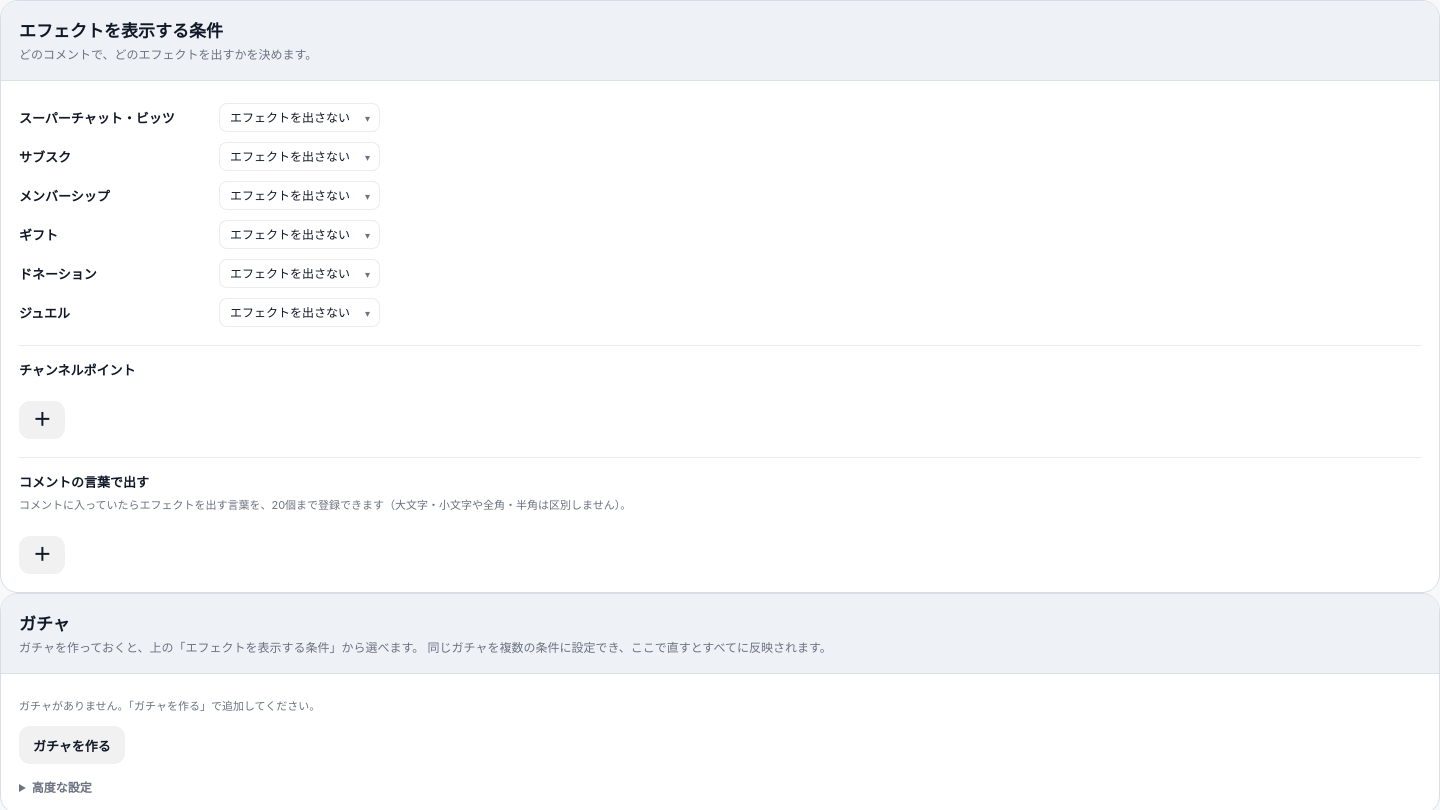
Scenario: GachaLibraryCard（063d） › ⚠⚠⚠ 穴 R: 使用中のガチャを消すとき、使っている条件が列挙される
The width and height of the screenshot is (1440, 810).
Click the button "ガチャを作る": click(72, 745) [19,726,125,764]
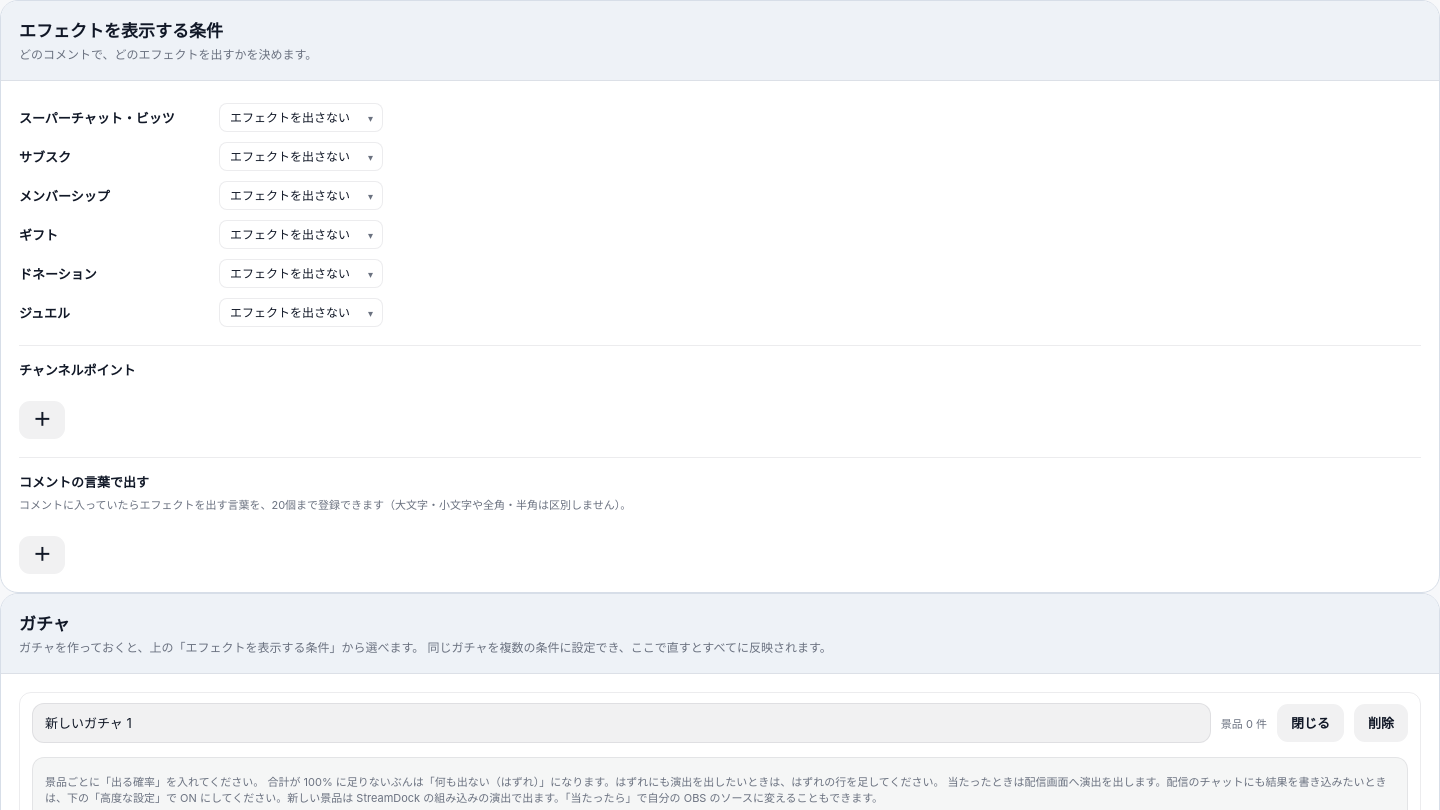
Select "ガチャ: 新しいガチャ 1" in the dropdown named "スーパーチャット・ビッツのエフェクト": (301, 118) [219,103,383,132]
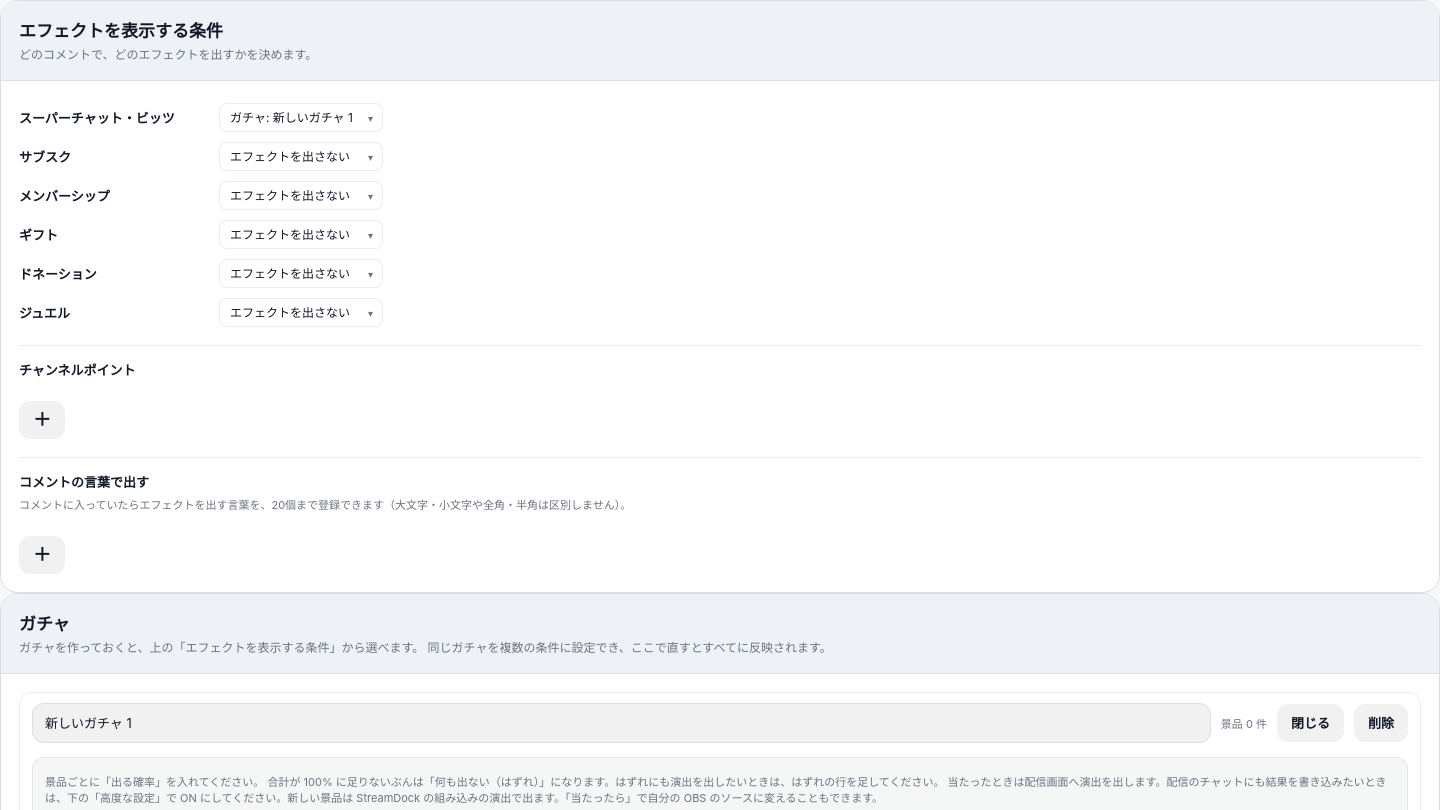
Select "ガチャ: 新しいガチャ 1" in the 2nd dropdown: (301, 156) [219,142,383,171]
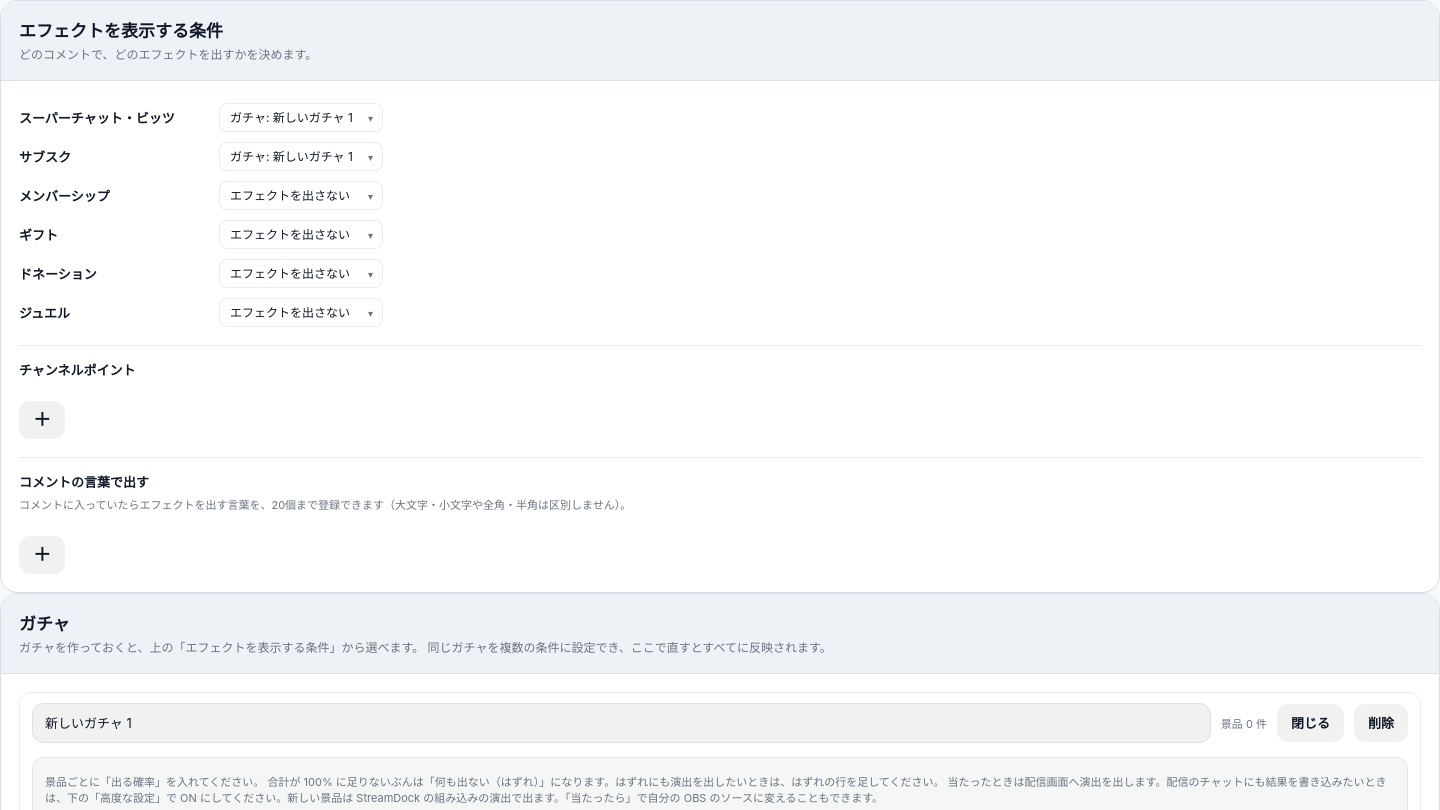
Click the button with aria-label "新しいガチャ 1 を削除": click(1381, 722) [1354,704,1408,742]
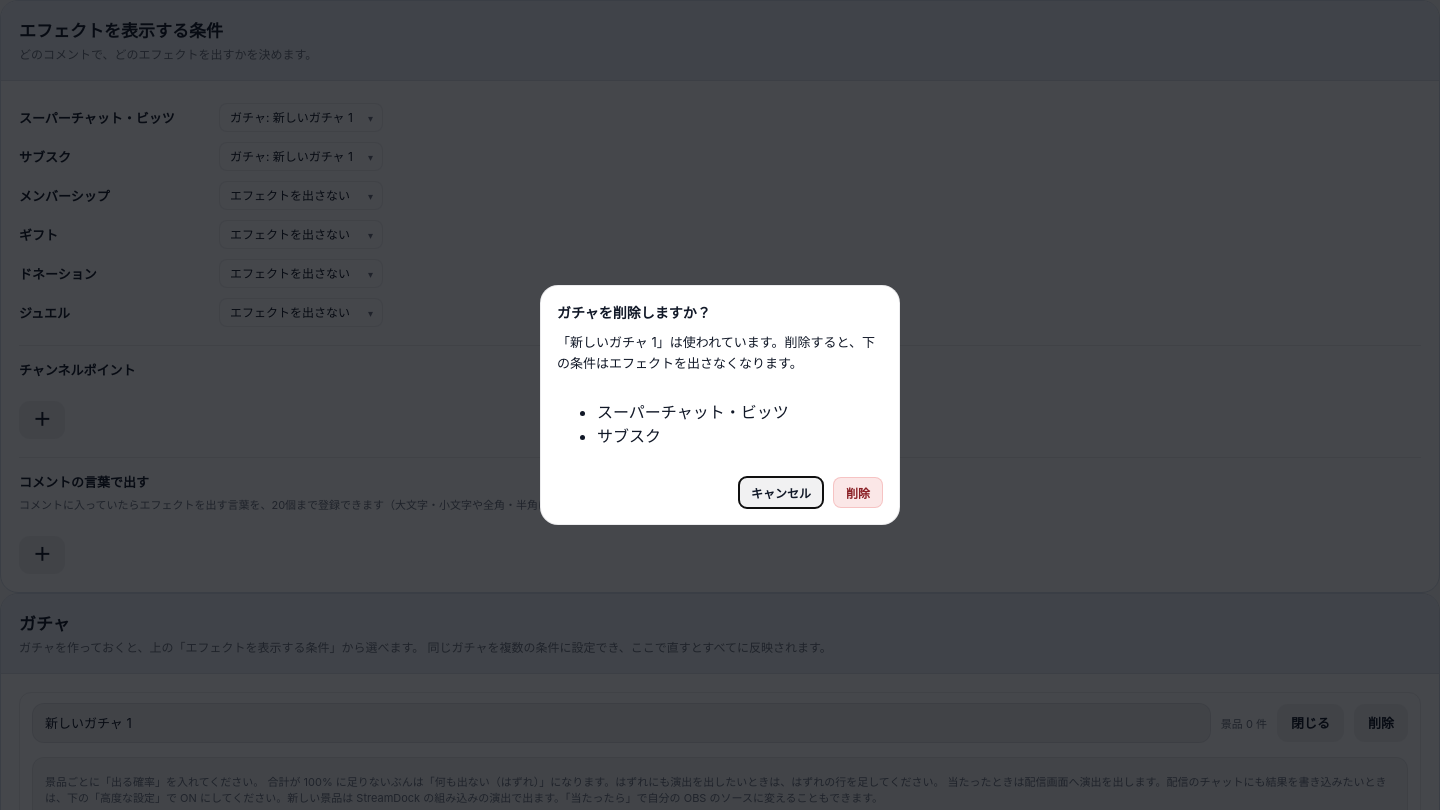
expect the list item "スーパーチャット・ビッツ" is shown: met, box [597,402,789,422]
expect the list item "サブスク" is shown: met, box [597,426,661,446]
expect the text "「新しいガチャ 1」は使われています。削除すると、下の条件はエフェクトを出さなくなります。" is shown: met, box [557,332,883,373]
